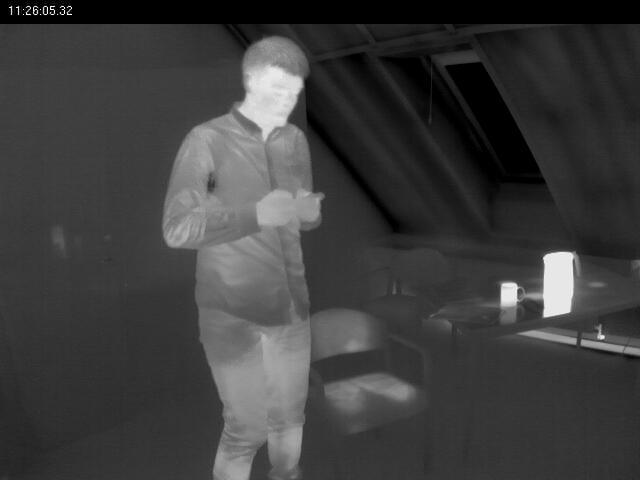person: (157, 40, 332, 480)
